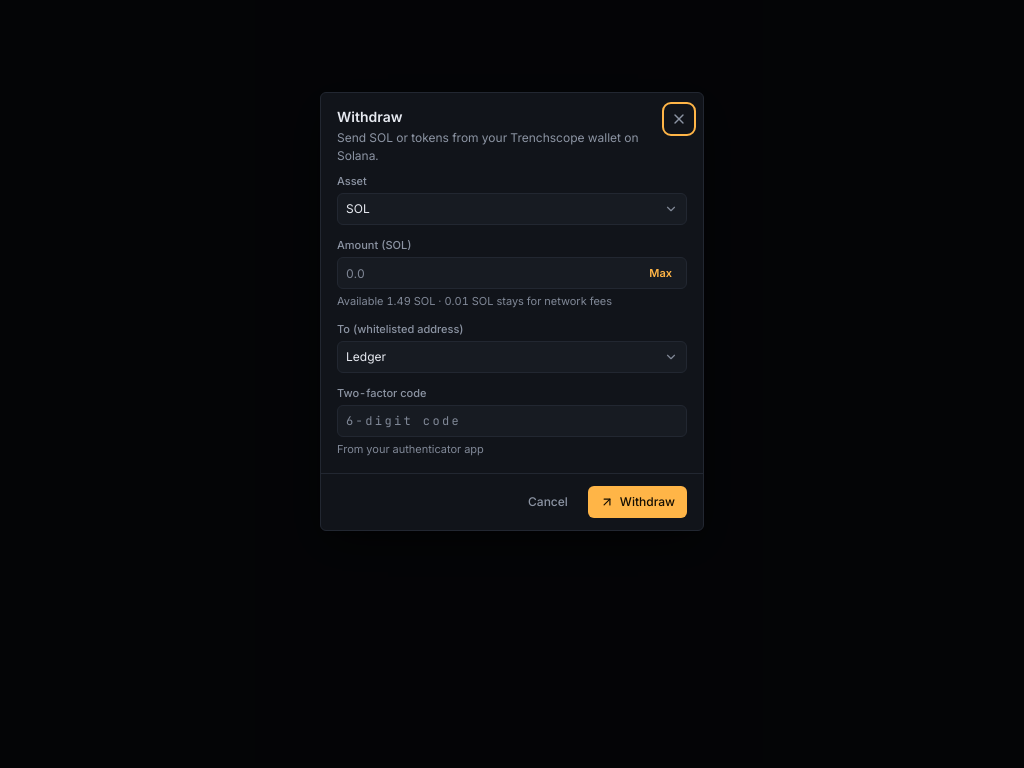
Scenario: WithdrawDialog form › a wrong code clears the field without signing out
In the field labelled "Amount (SOL)": (492,273) [346,258,637,288], type "0.5"
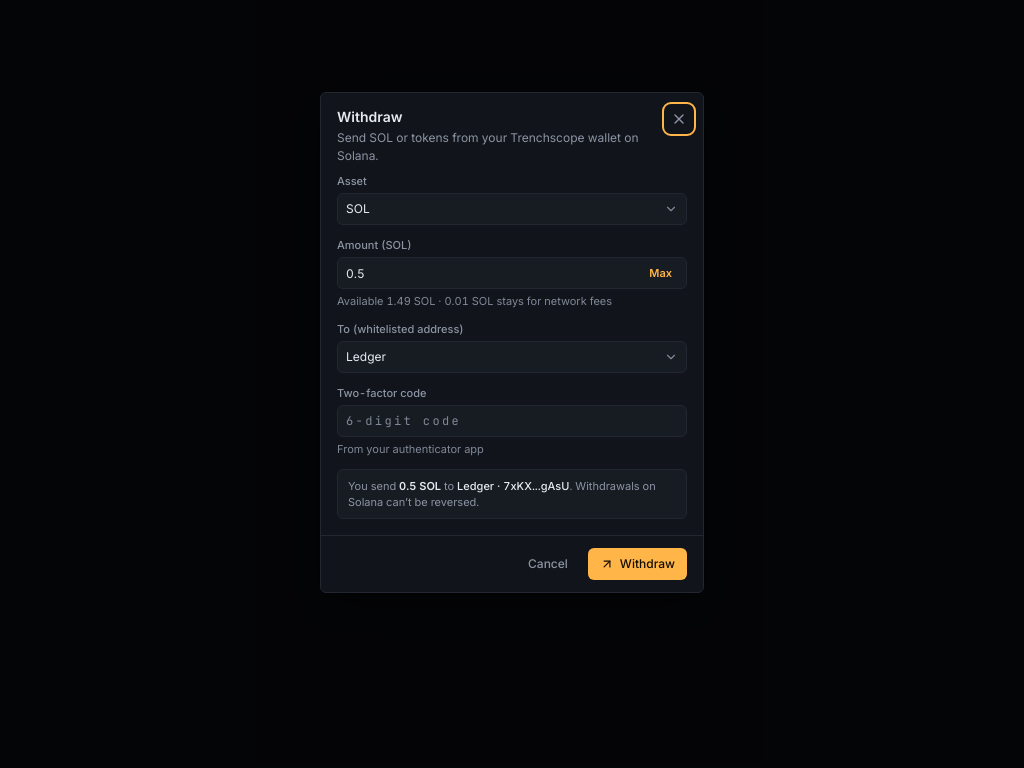
In the field labelled "Two-factor code": (512,421) [346,406,678,436], type "111111"
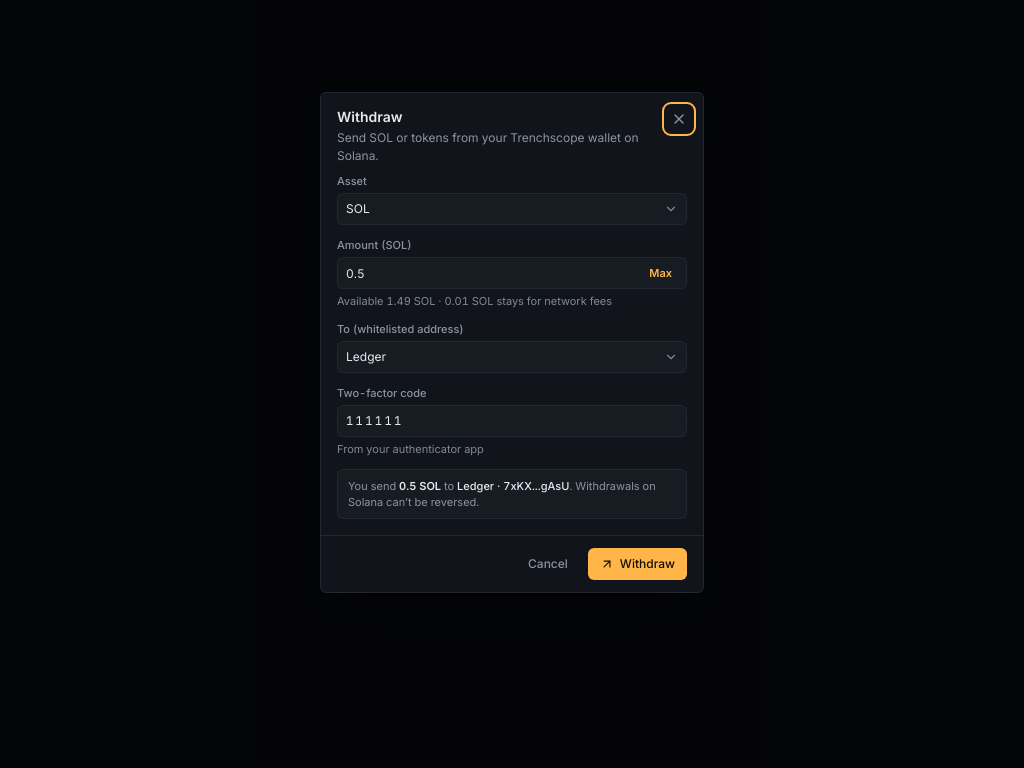
Click the button "Withdraw": (637,564) [588,548,687,580]
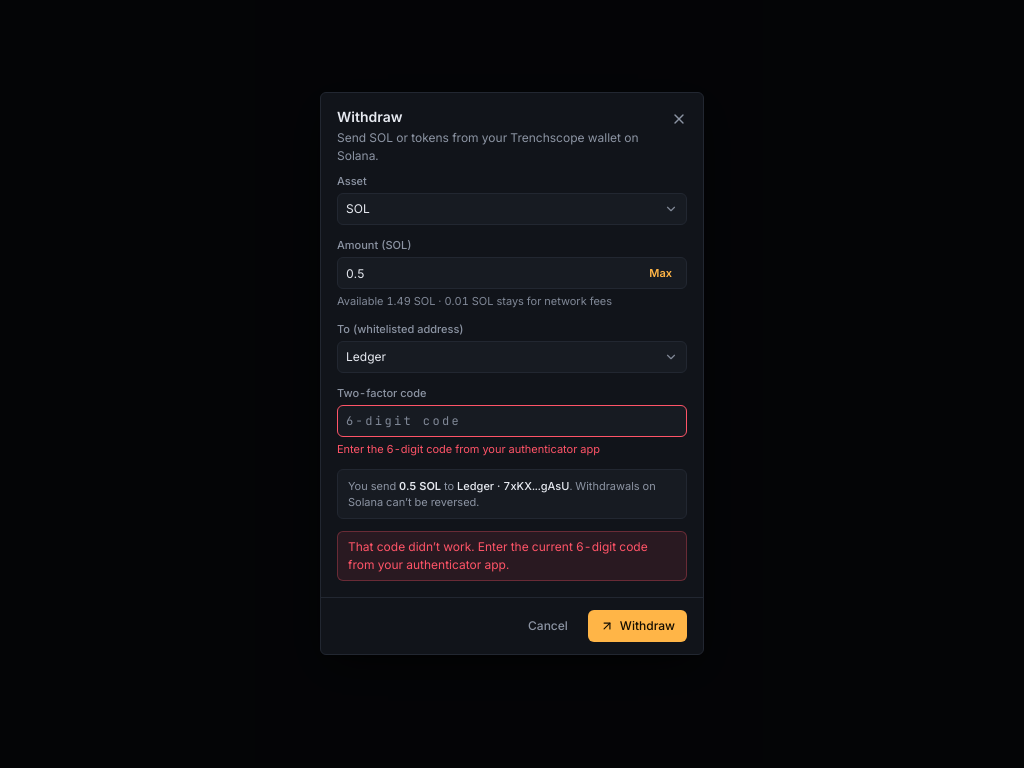
Now the message shows "That code didn’t work", box [348,539,648,572]
Now the field labelled "Two-factor code" is empty, box [346,406,678,436]
